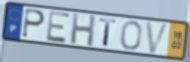E: (46, 10, 72, 45)
H: (70, 12, 97, 48)
O: (119, 20, 143, 52)
P: (20, 7, 46, 40)
T: (99, 17, 118, 48)
V: (144, 21, 171, 55)
